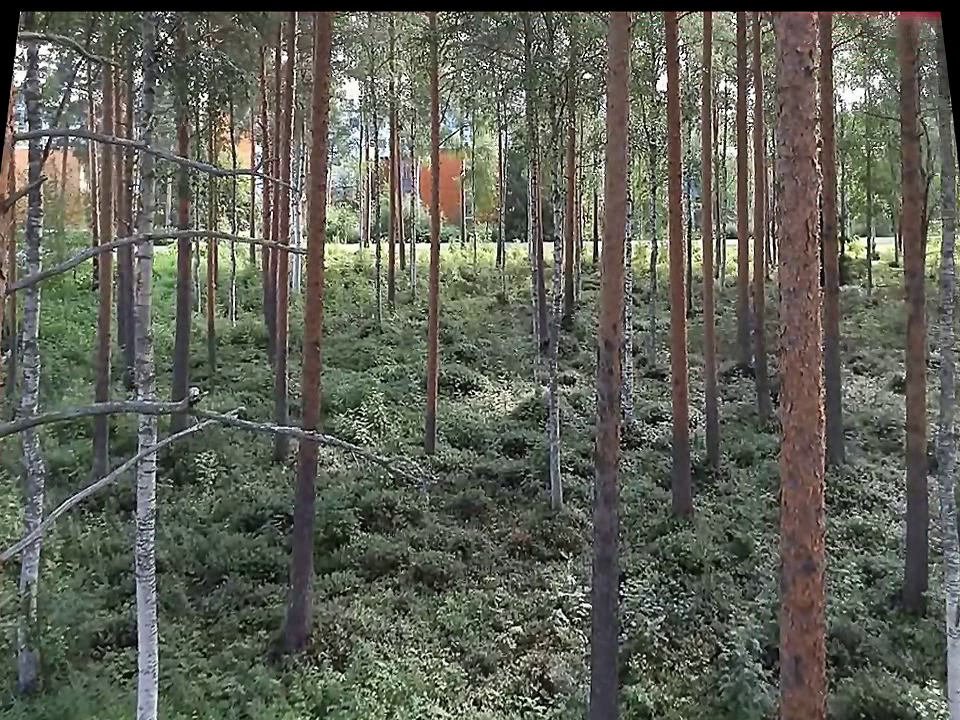branch: (0, 383, 426, 485), (7, 221, 312, 295), (14, 125, 293, 192), (16, 26, 122, 71)
trunk: (766, 20, 834, 712), (290, 26, 342, 635), (581, 25, 627, 708), (891, 27, 936, 608), (19, 61, 54, 676), (659, 17, 698, 520), (138, 30, 166, 712), (697, 22, 728, 472), (86, 67, 116, 486), (417, 36, 446, 456), (537, 146, 570, 512), (171, 67, 195, 444), (749, 32, 772, 376), (731, 33, 753, 369)
